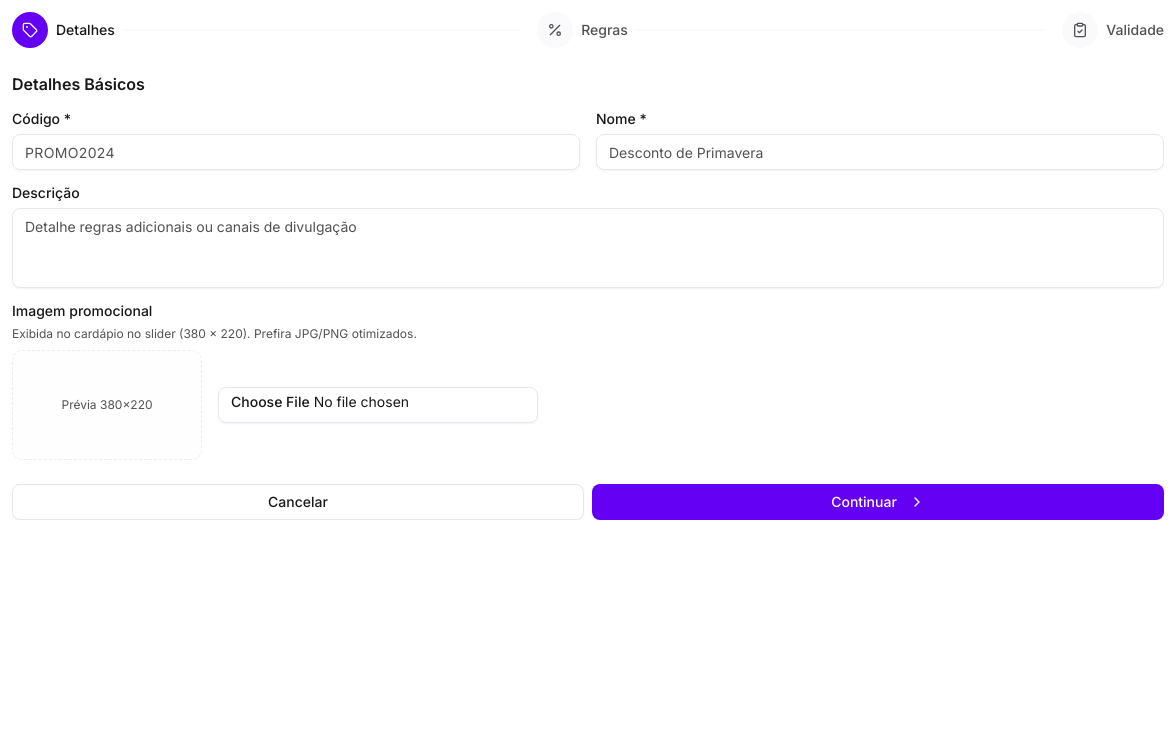
Test: CouponForm › should not advance without required fields
Click the button "Continuar".
click(878, 502)  # box x1=592 y1=484 x2=1164 y2=520
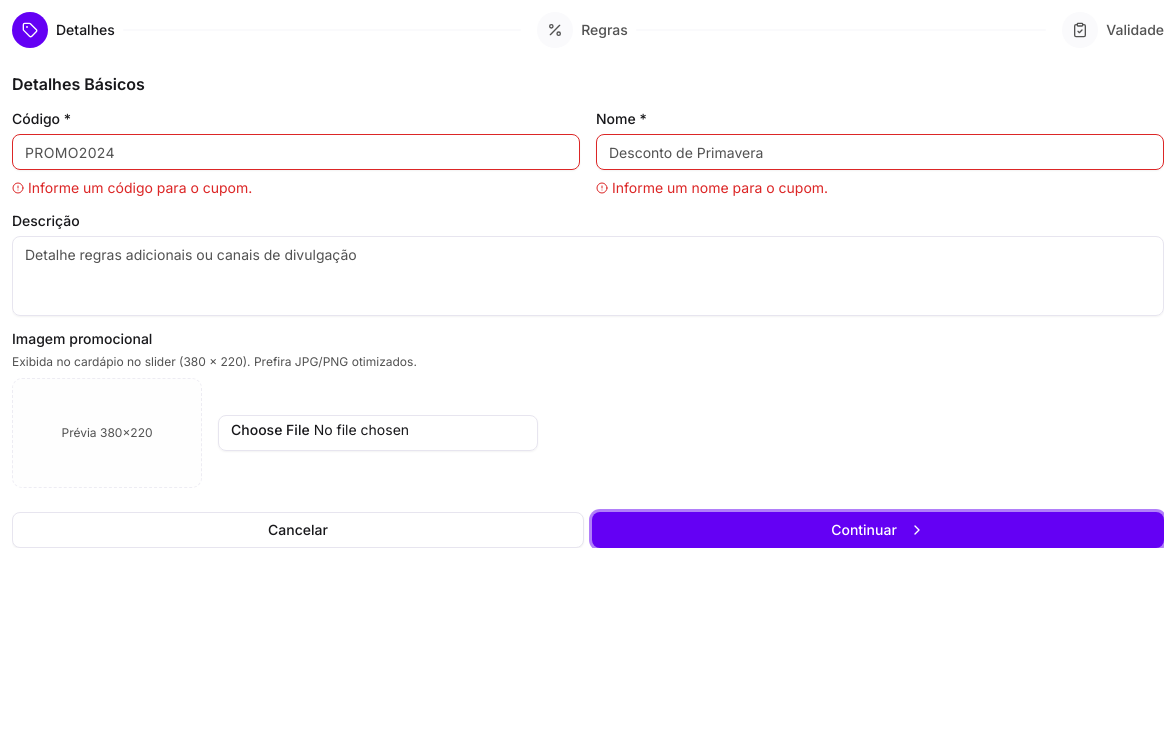
Expected: the text "Informe um código para o cupom." is shown, x1=12 y1=179 x2=252 y2=196
